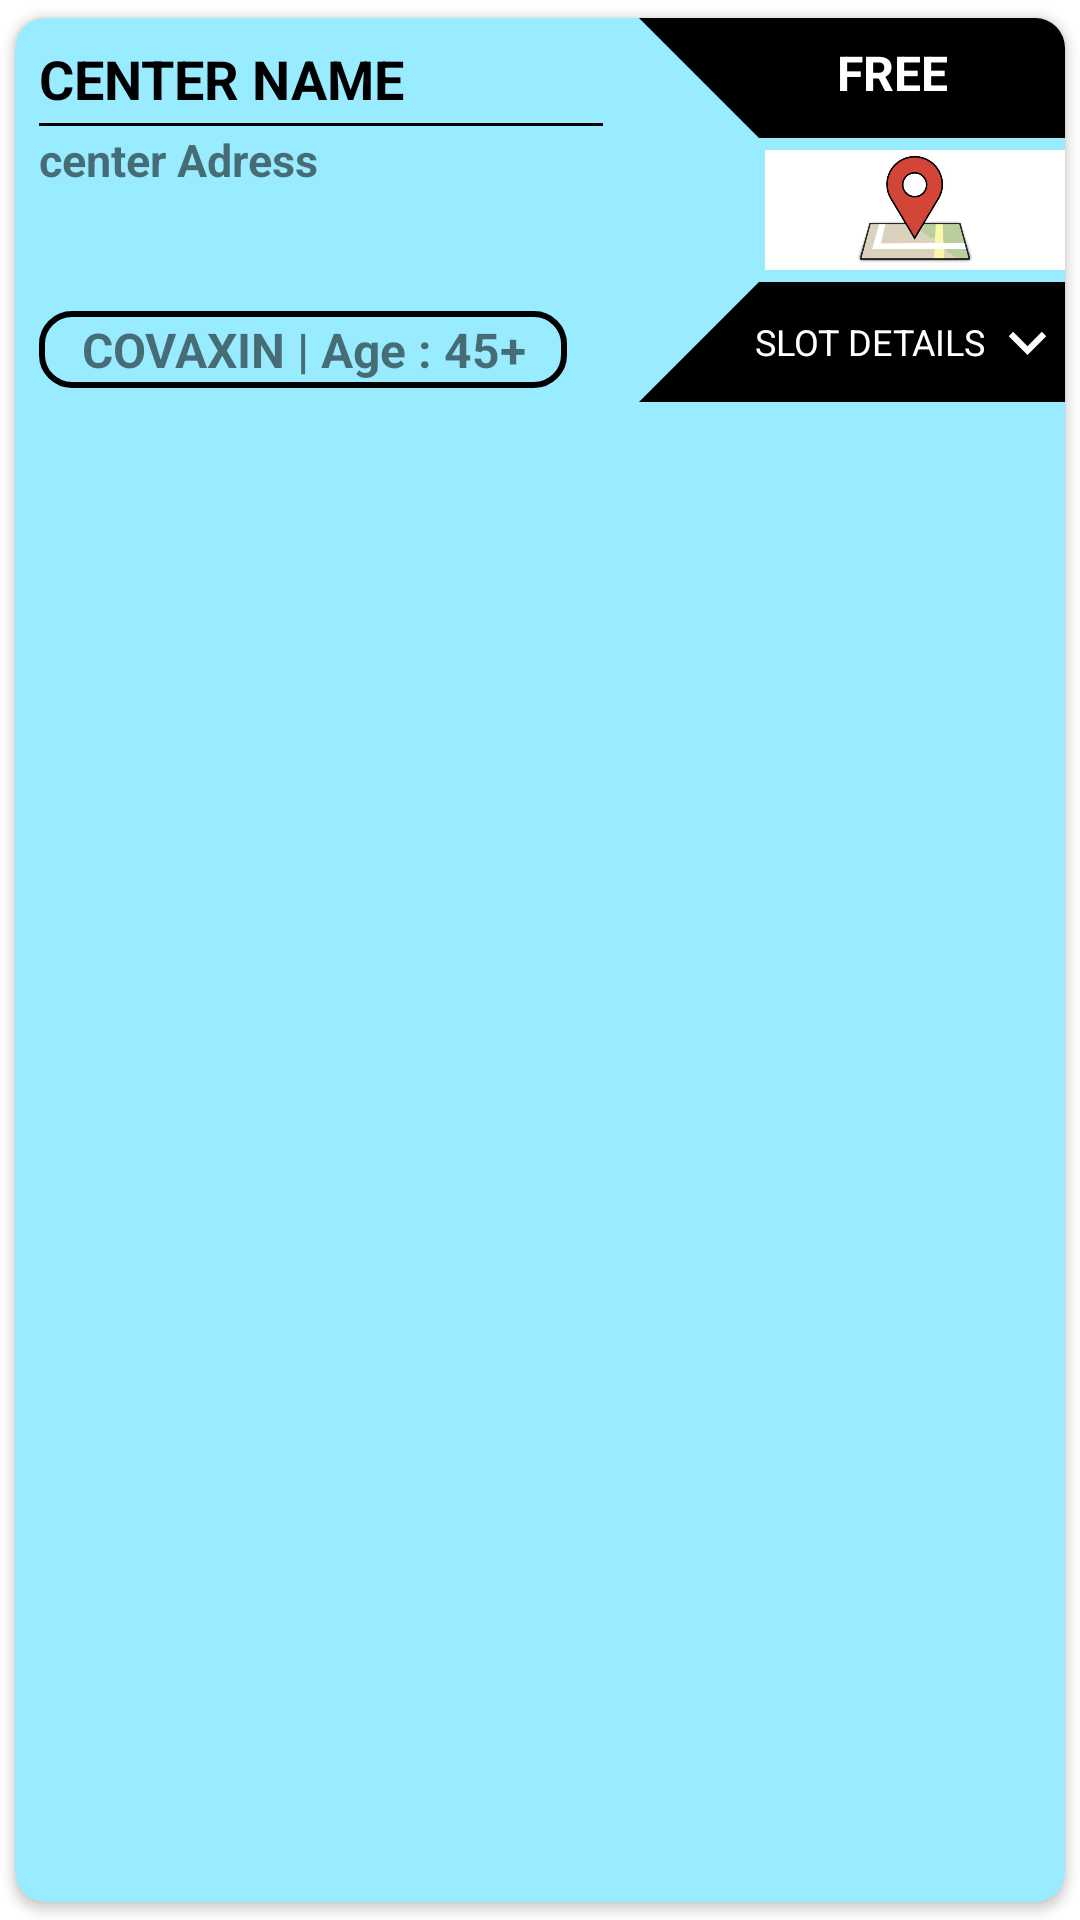

Point at icon controls on the screen. Image size 1080px x 1920px, points as [x,y].
expand more: [1027,343]
